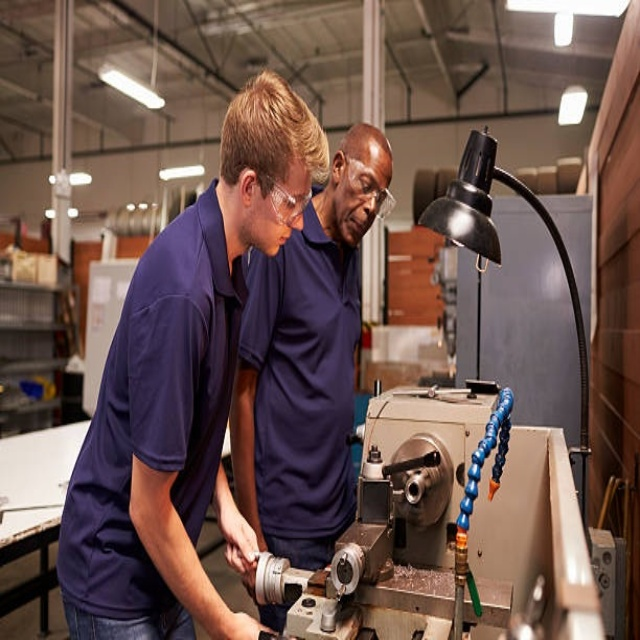Gafas: (342, 154, 394, 221), (259, 170, 311, 228)
Sin_guantes: (221, 502, 262, 571)
Sin_mascara: (261, 227, 297, 254), (343, 212, 372, 242)
